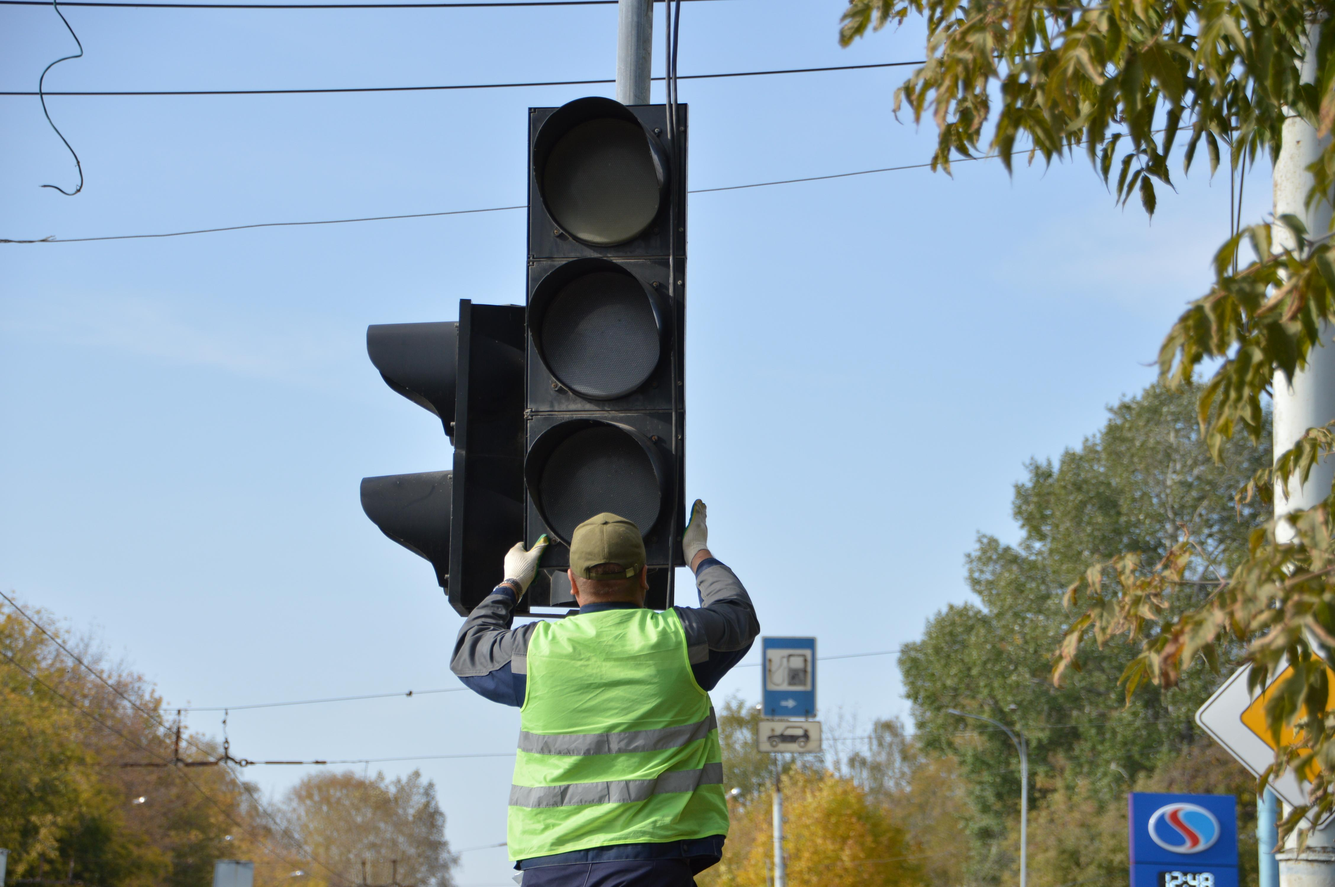obstructed_road_sign: (1195, 616, 1335, 828)
off traffic light: (525, 96, 689, 570), (361, 300, 525, 616)
road_sign: (761, 637, 817, 720), (758, 718, 822, 752)
